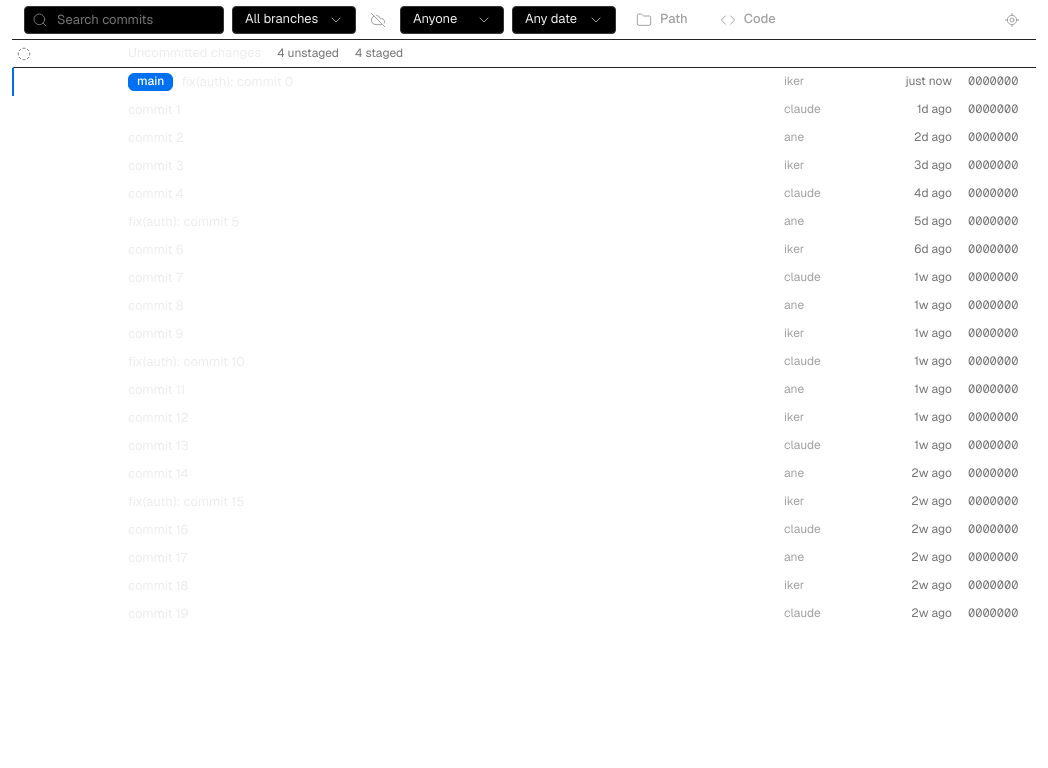
Test: GraphPanel filters › debounces the search 200 ms, restarts the walk and shows the count line
In the field with placeholder "Search commits": (124, 20) [24,6,224,34], type "fix(auth)"
Wait 200 ms
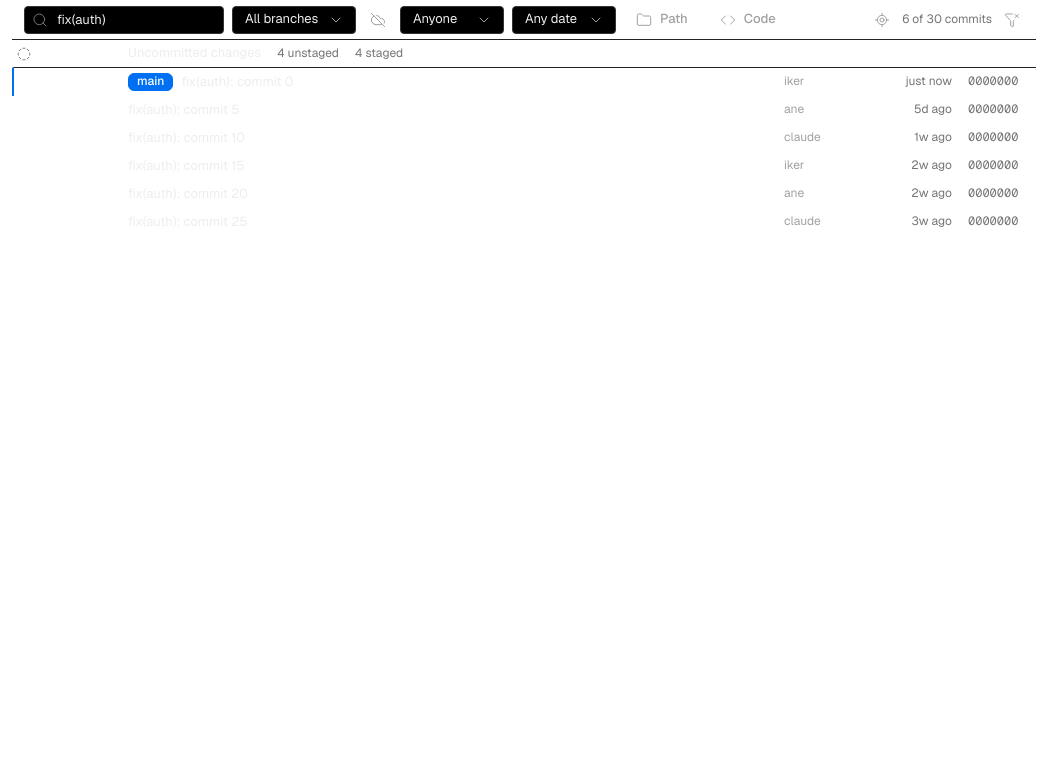
Now the text with test id "filter-count" reads "6 of 30 commits", box [902,11,992,27]
Now the number of options with test id "graph-row" is 6, box [12,68,1036,96]; [12,96,1036,124]; [12,124,1036,152]; [12,152,1036,180]; [12,180,1036,208]; [12,208,1036,236]
Click the button with test id "filter-clear": (1012, 20) [1000,8,1024,32]
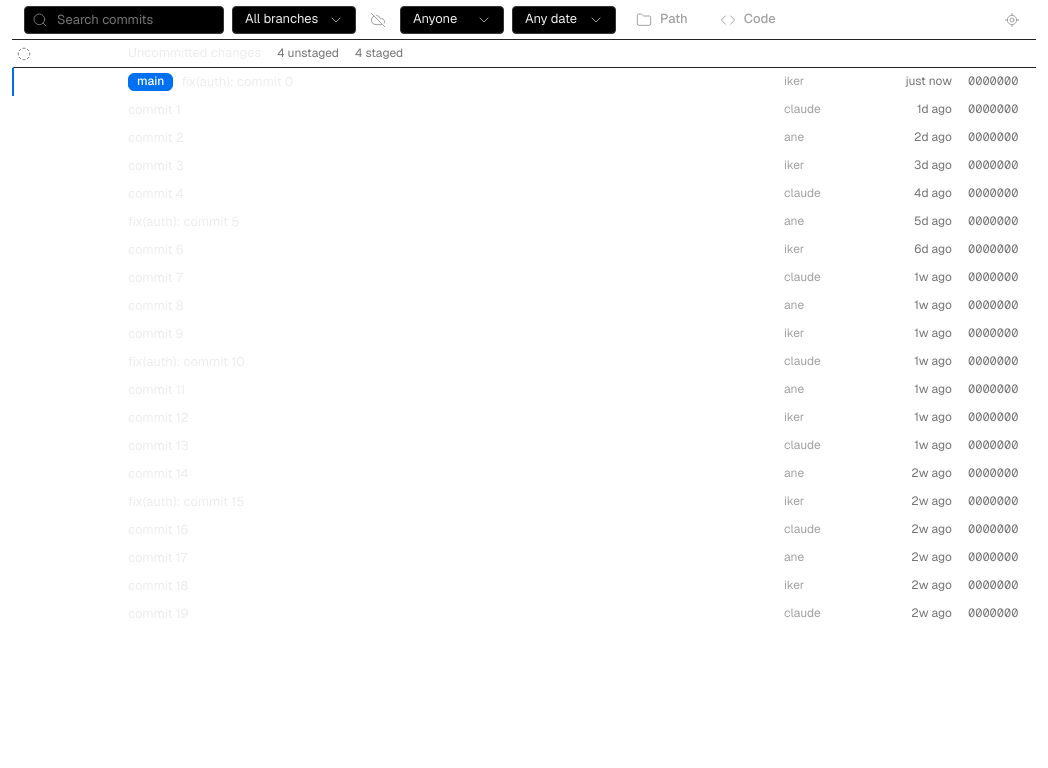
Now the field with placeholder "Search commits" is empty, box [24,6,224,34]
Now the number of options with test id "graph-row" is 20
